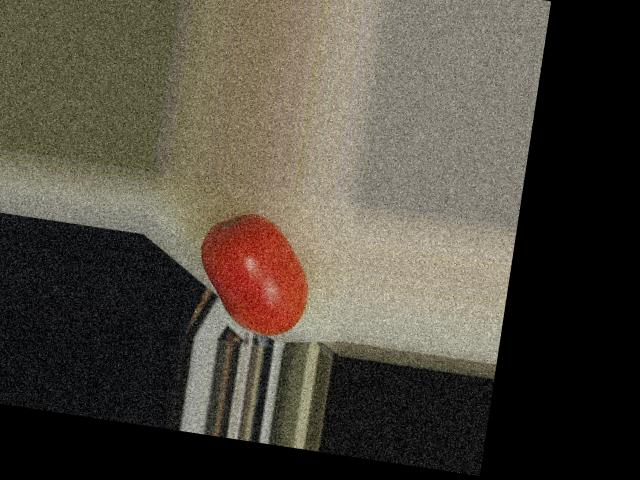tomato: (190, 207, 318, 341)
